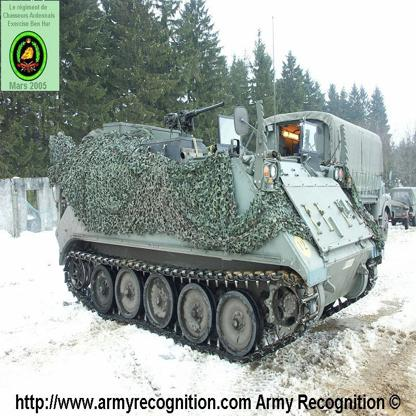Tank: (48, 106, 393, 367)
